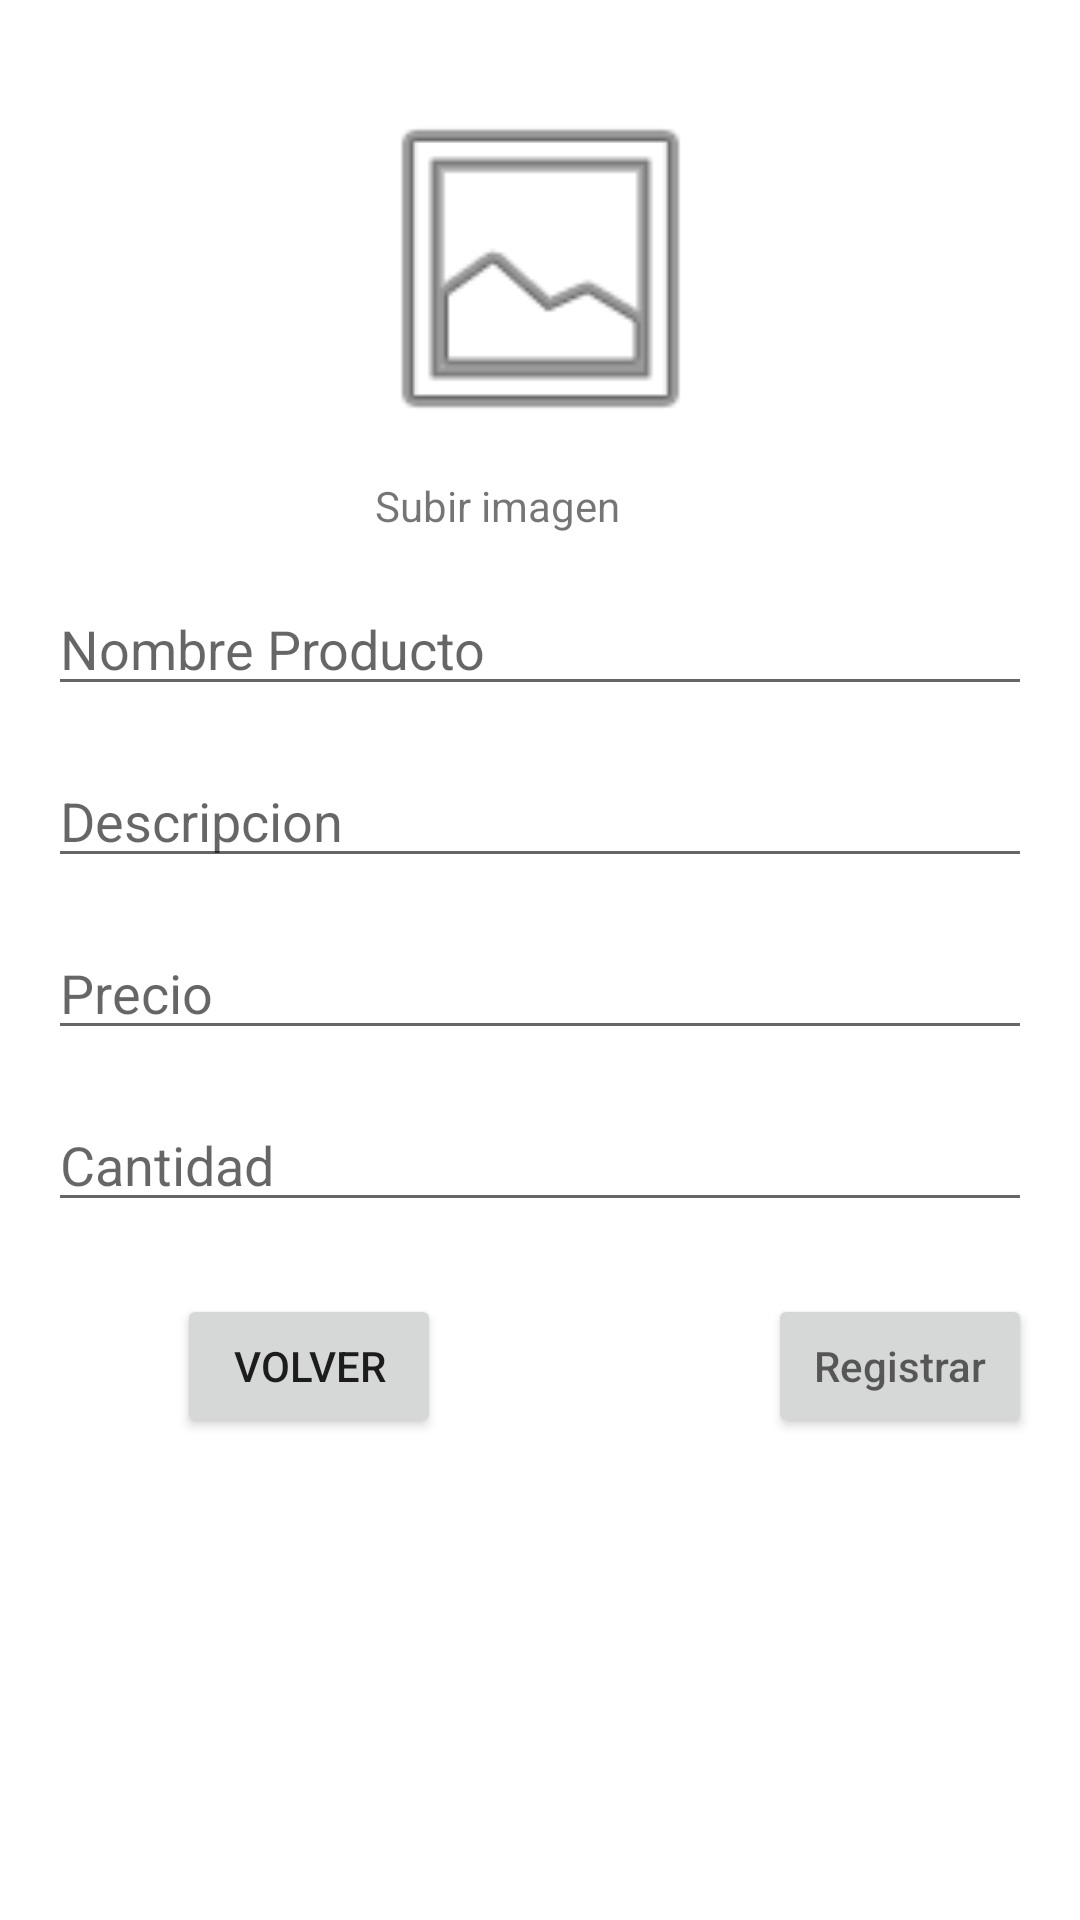

Icons on this 1080w x 1920h Android screen, each with the point to tap as [x,y]:
gallery: [540,268]
